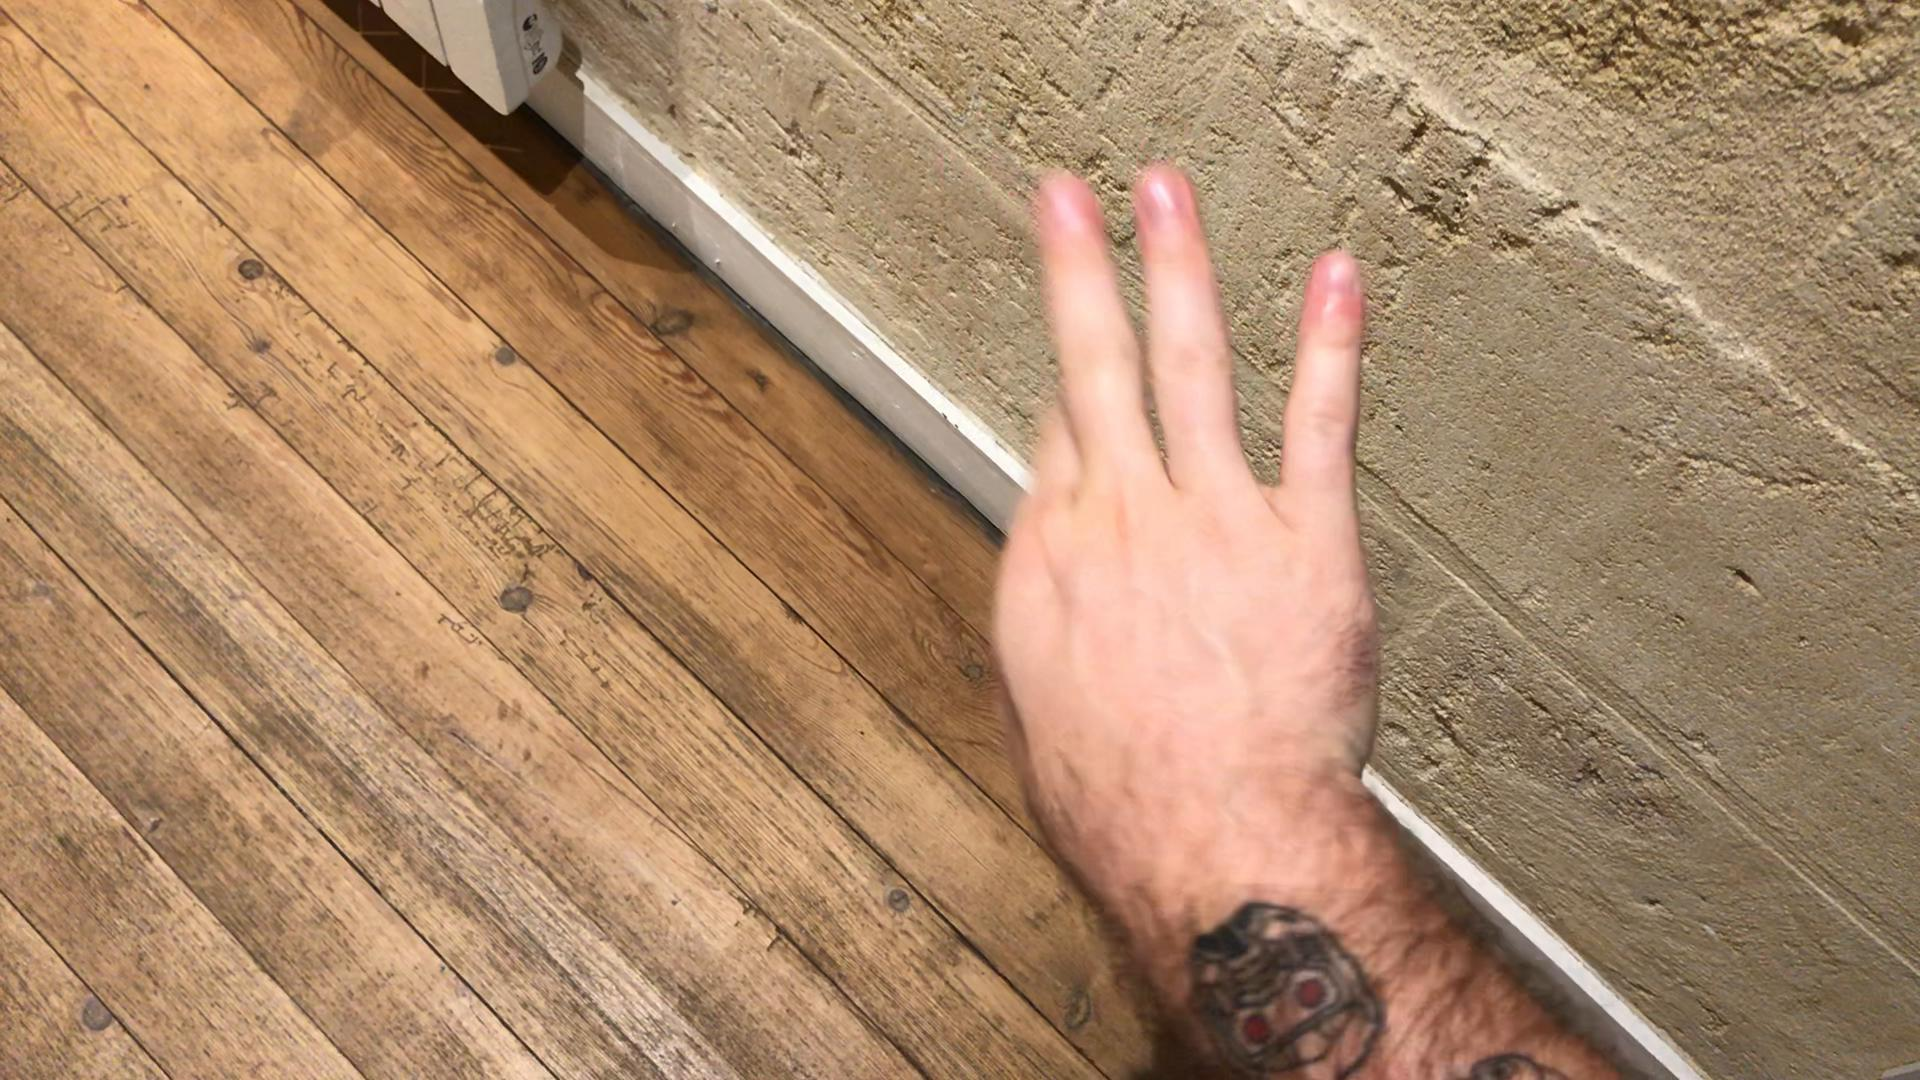hand: (978, 156, 1395, 818)
